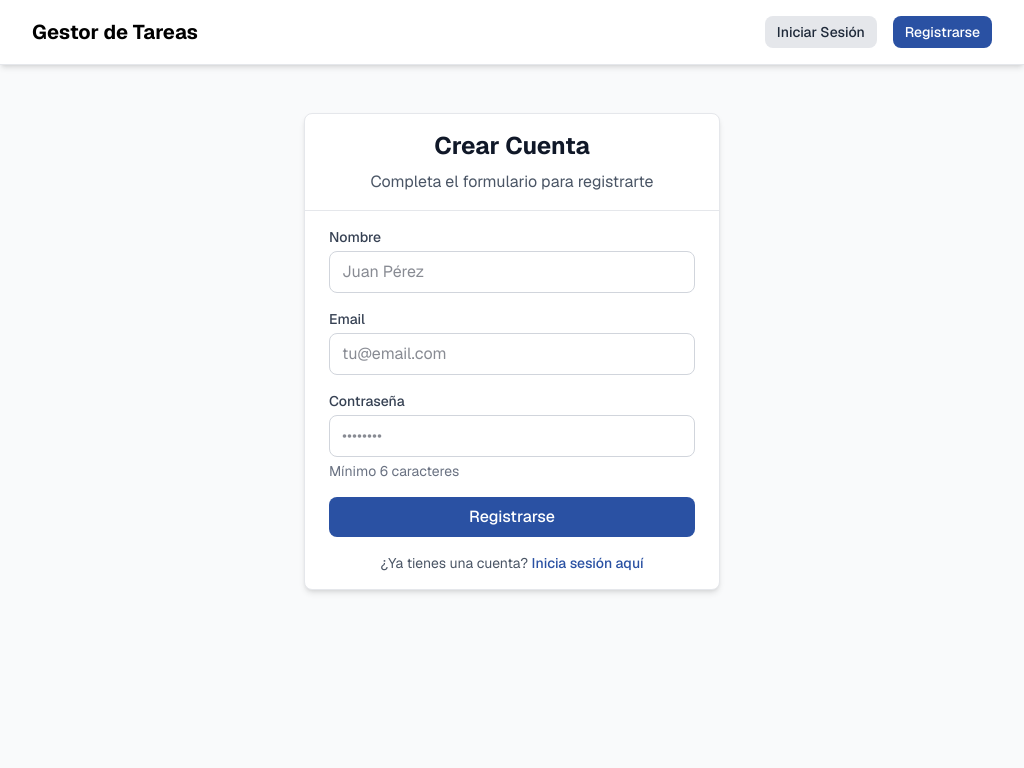
RegisterPage › valida campos vacíos
The image size is (1024, 768).
Click the button "Registrarse" below "Mínimo 6 caracteres": point(512, 517) left=329, top=497, right=695, bottom=537
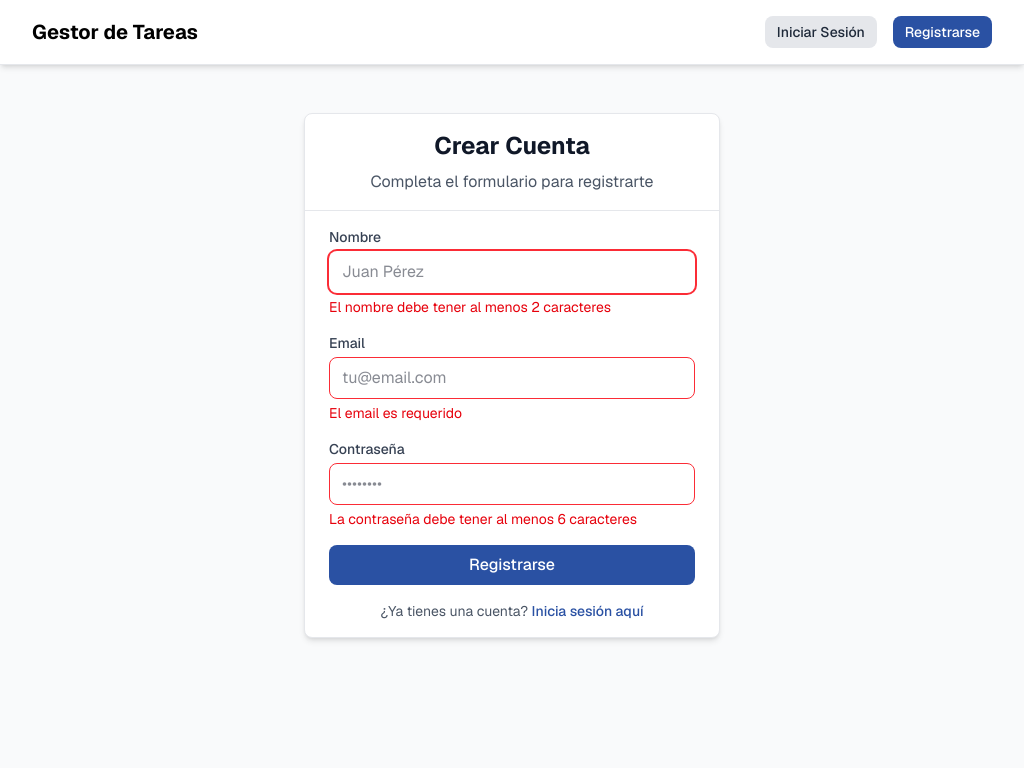
Result: the text "El nombre debe tener al menos 2 caracteres" is shown at left=329, top=298, right=611, bottom=316
